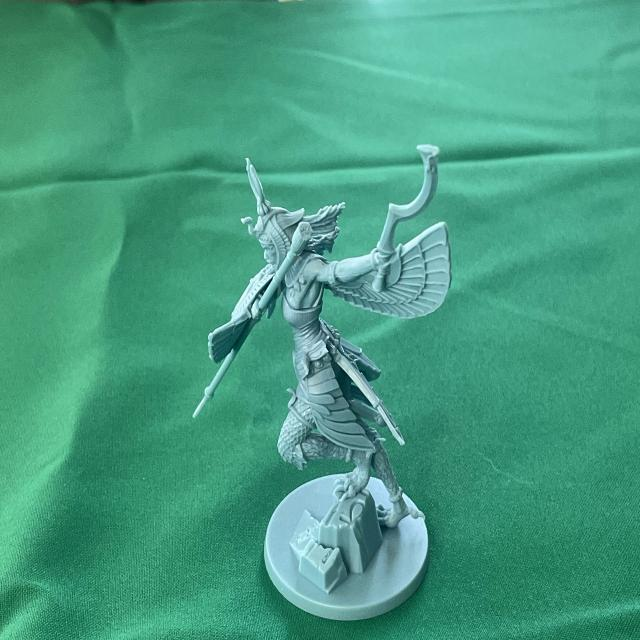isis: (188, 130, 493, 640)
